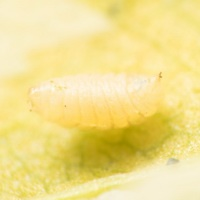insect: (29, 74, 160, 128), (159, 72, 161, 77)
